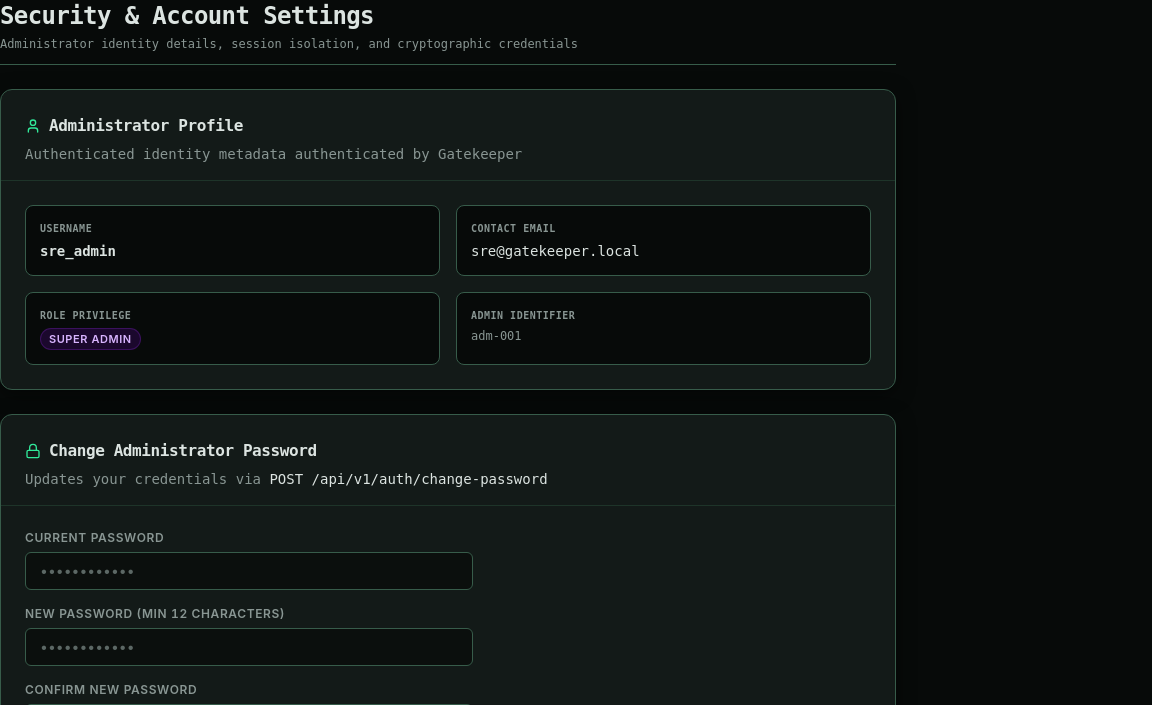
Test case: Security Page Component › calls changePassword and triggers success toast on valid submission
Type "CurrentPassword123!" into the password field labelled "Current Password" at [249, 571], box [25,552,473,590]
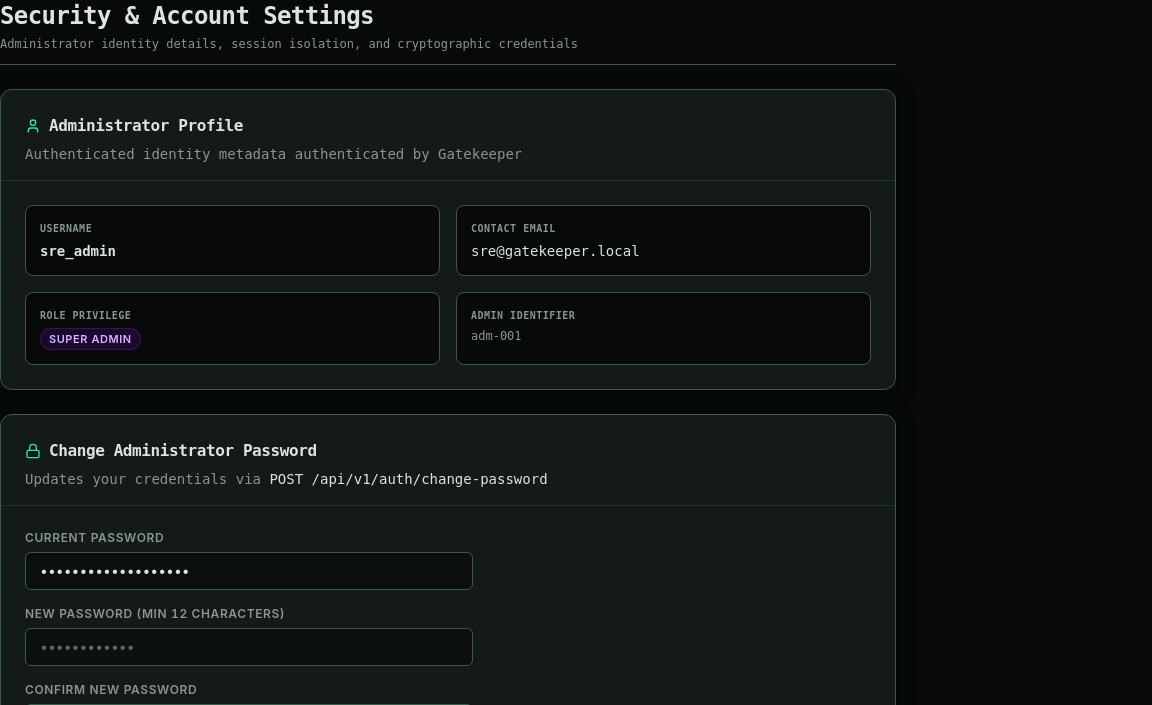
Type "NewSecurePassword123!" into the password field labelled "New Password (min 12 characters)" at [249, 647], box [25,628,473,666]
(page scrolled)
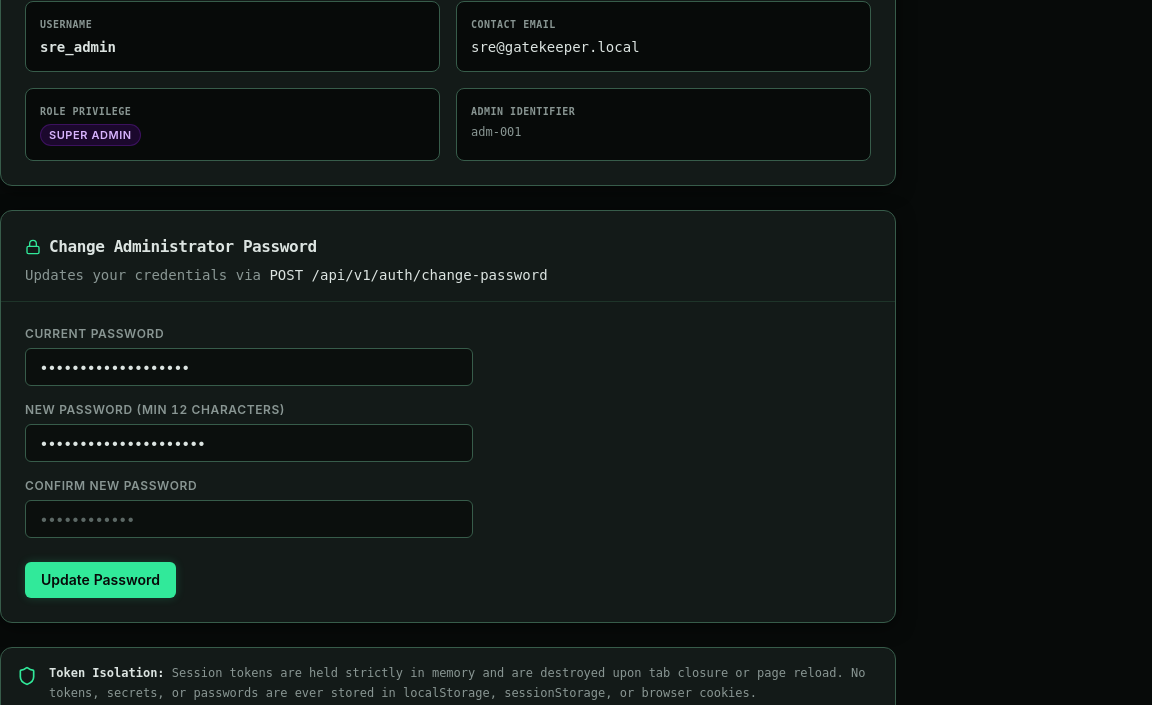
Type "NewSecurePassword123!" into the password field labelled "Confirm New Password" at [249, 519], box [25,500,473,538]
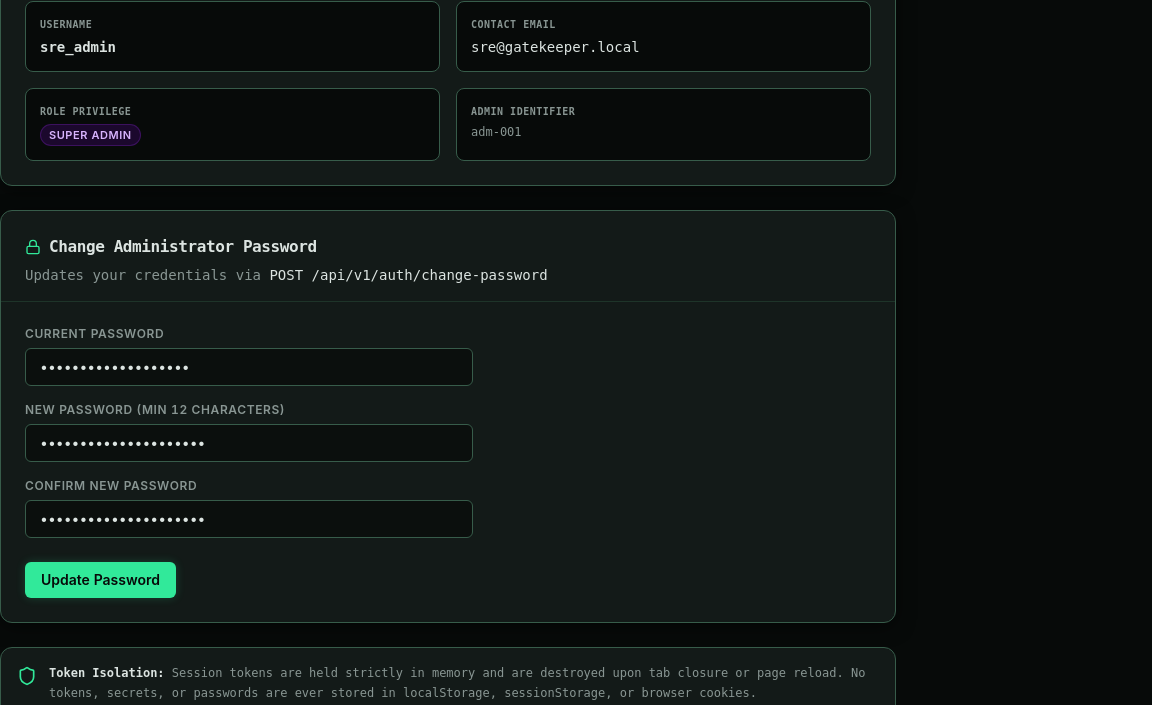
Click the button "Update Password" at [100, 580], box [25,562,176,598]
(page scrolled)
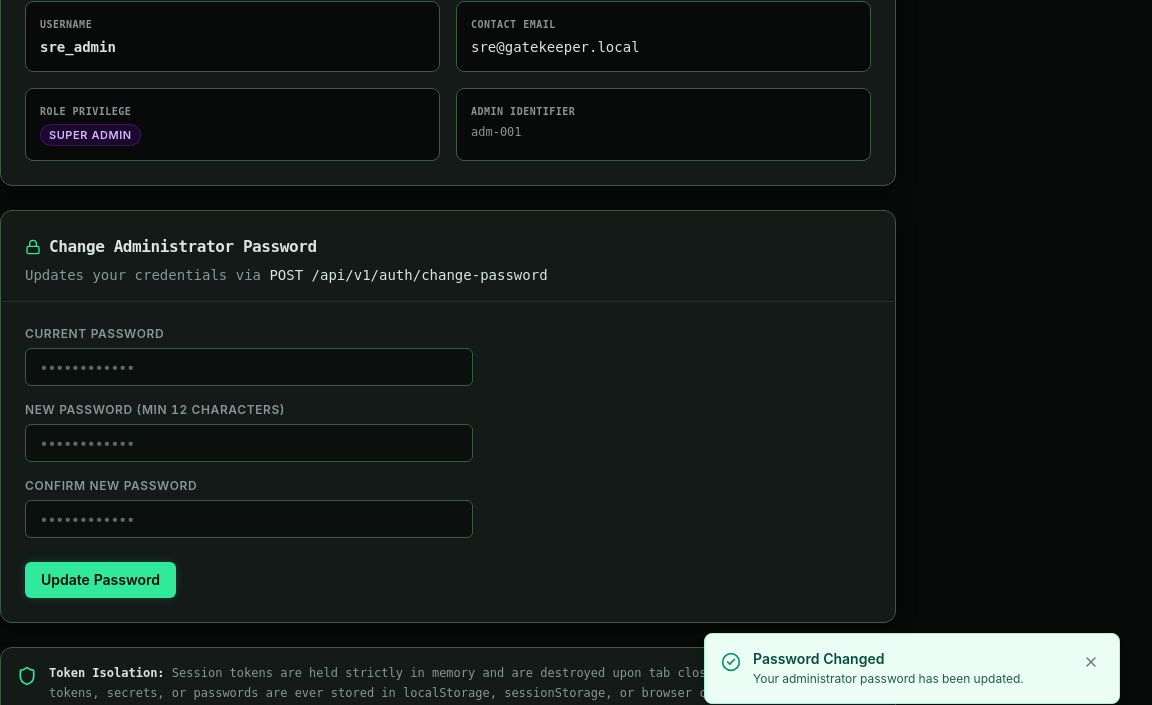
Now the heading "Password Changed" is shown, box [753,650,884,666]
